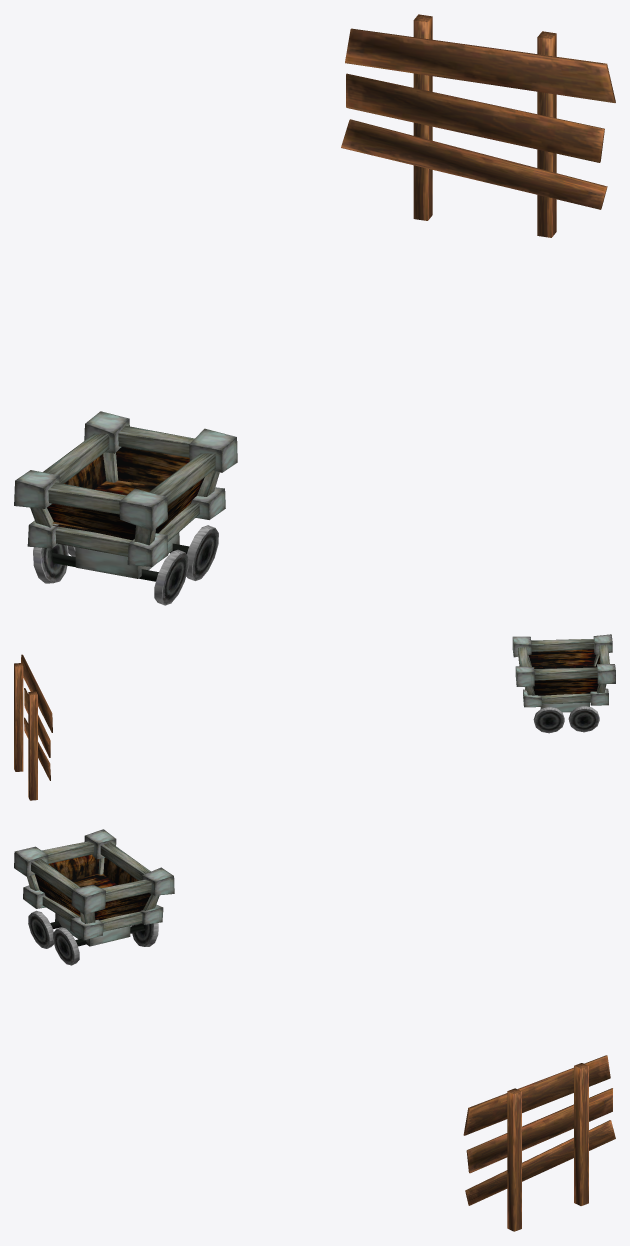
File: CART_CRASH_ANIMINST.fbx
3 renders of one model, top to bottom at view 1: azimuth 30°, elevation 25°; view 2: azimuth 150°, elevation 25°; view 3: azimuth 270°, elevation 25°, orthographic. The views are drawn at different scales.
Visible parts, largest first — view 1: CART_CRASH_ANIMINST; view 2: CART_CRASH_ANIMINST; view 3: CART_CRASH_ANIMINST.
Part boxes in pixels (x1,y1,x2,y2): CART_CRASH_ANIMINST: (14, 14, 615, 605); CART_CRASH_ANIMINST: (14, 634, 615, 800); CART_CRASH_ANIMINST: (14, 829, 615, 1231).
Size of the model in its own units: 75407 by 16593 by 65922.
3 materials, 3 textured.
